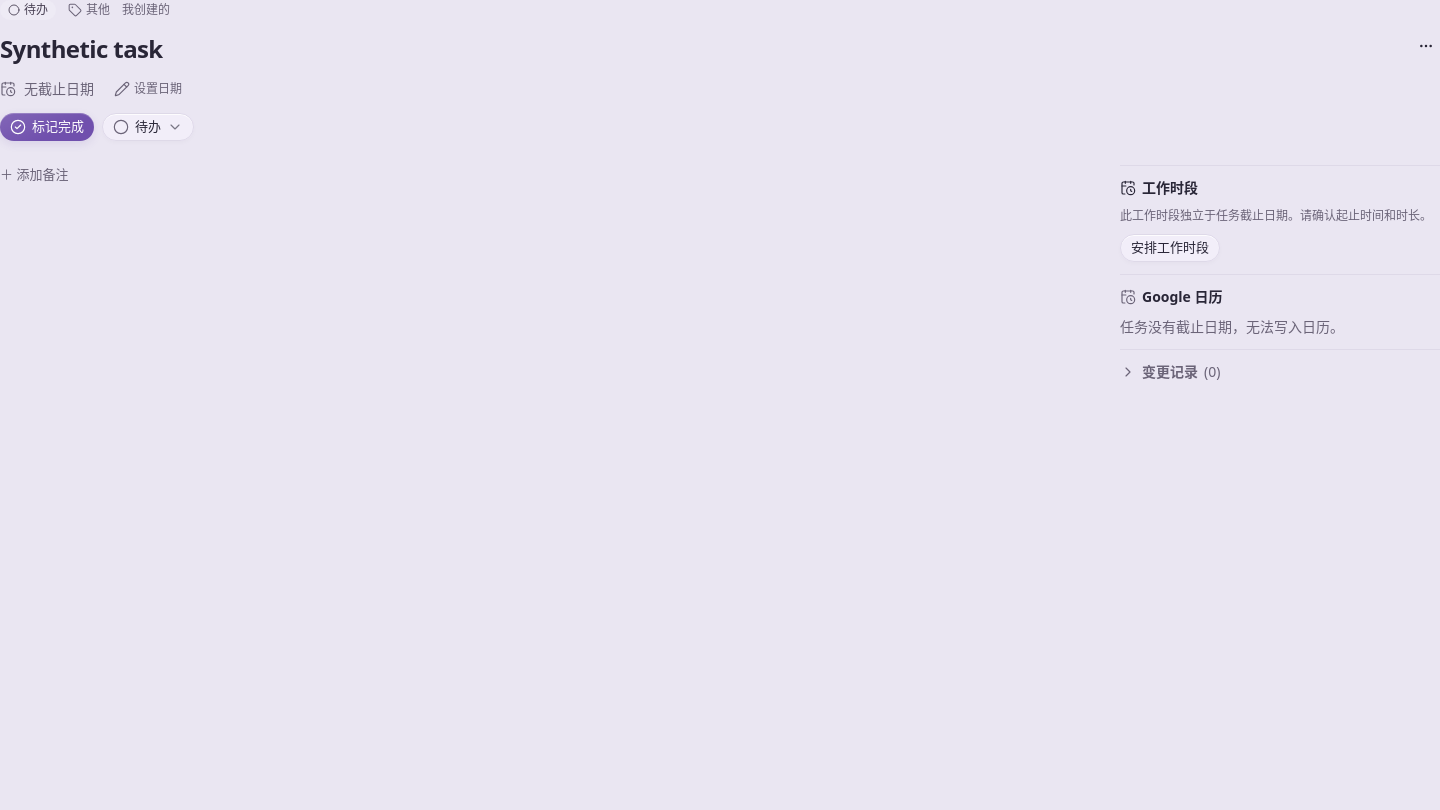
Test: TaskDetailView: adding notes › opens the notes ready to type and saves them with Ctrl+Enter
Click the button "＋ 添加备注".
click(34, 175)  # box [0, 165, 68, 184]
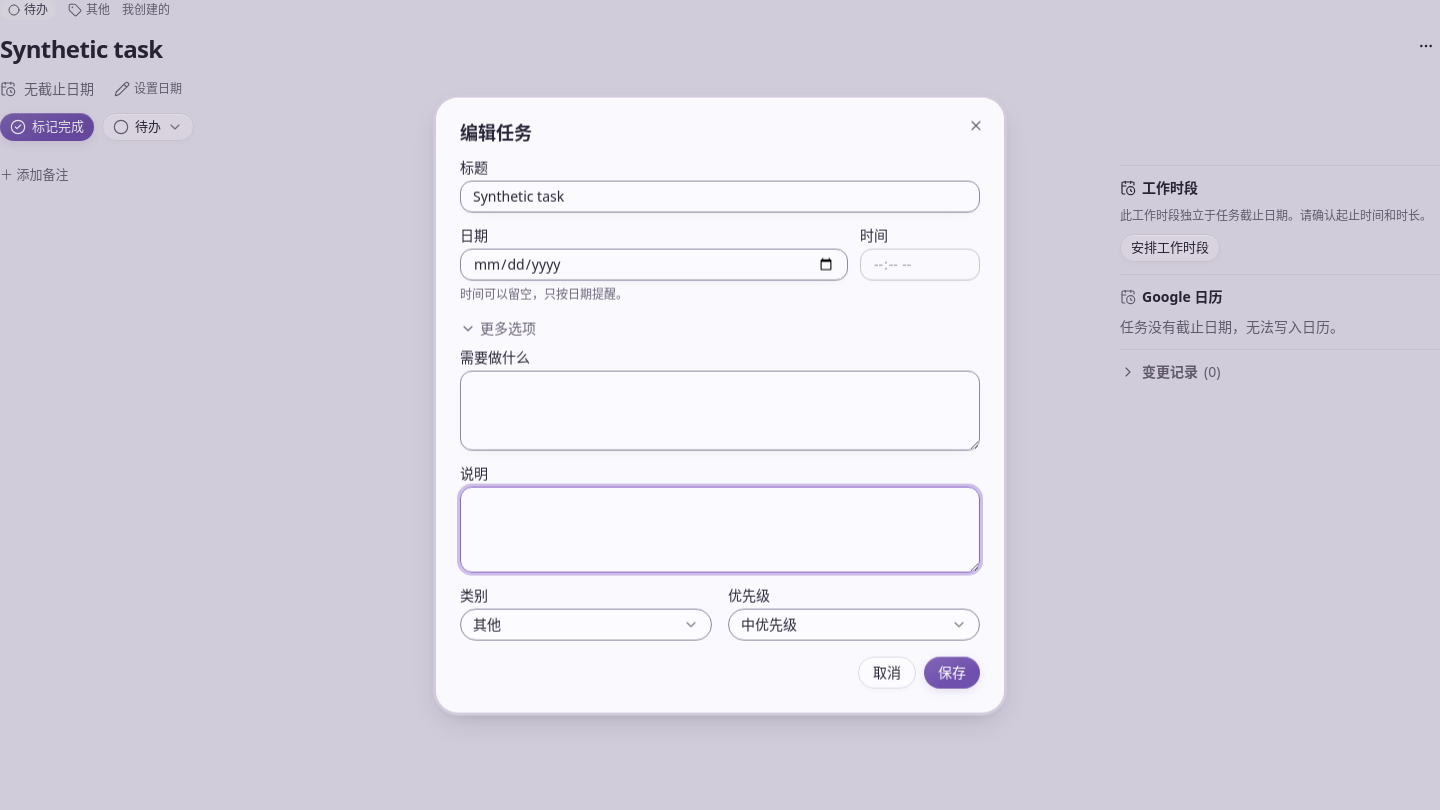
Now the text box labelled "说明" is shown, box [460, 486, 980, 572]
Type keys "第一行{Enter}第二行"
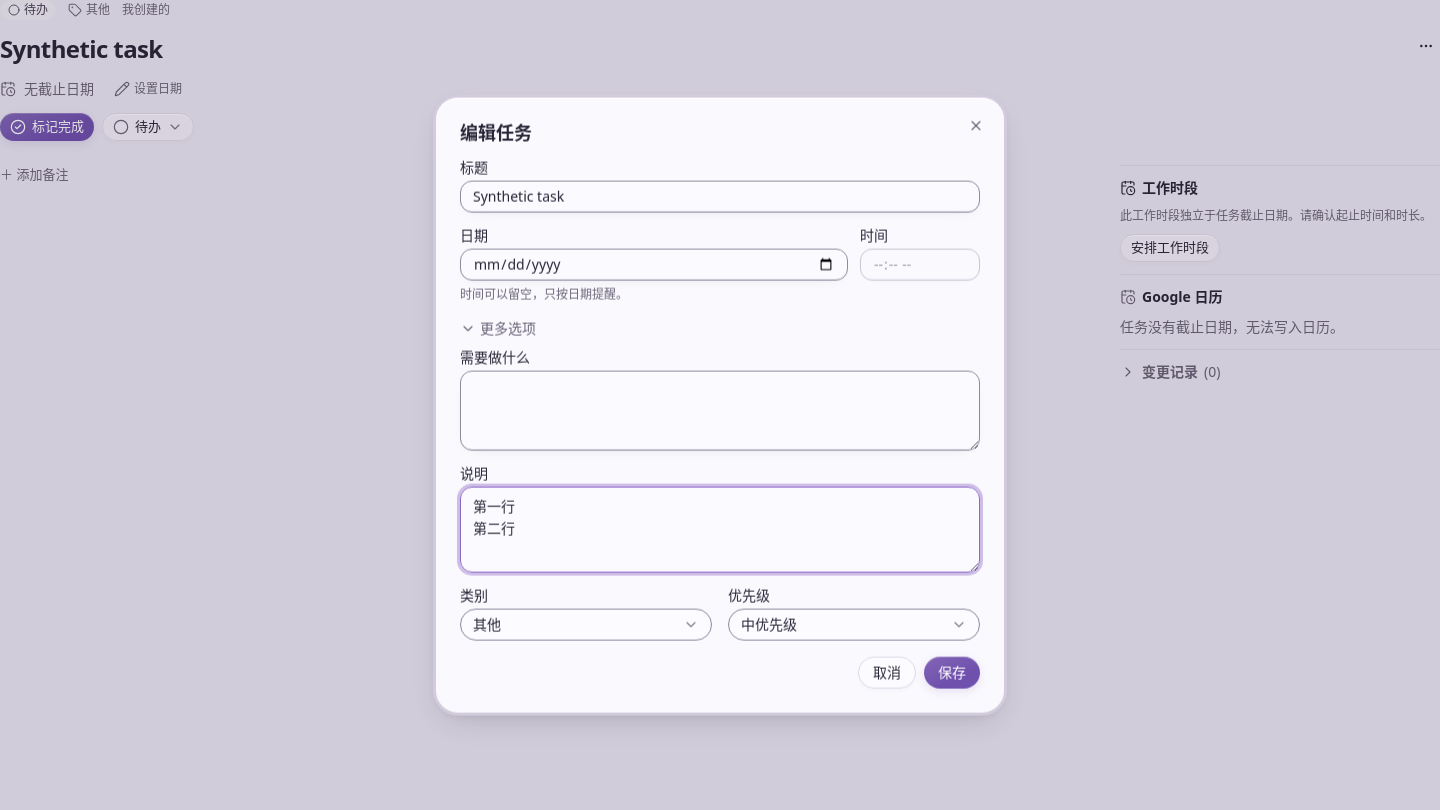
Type keys "{Control>}{Enter}{/Control}"
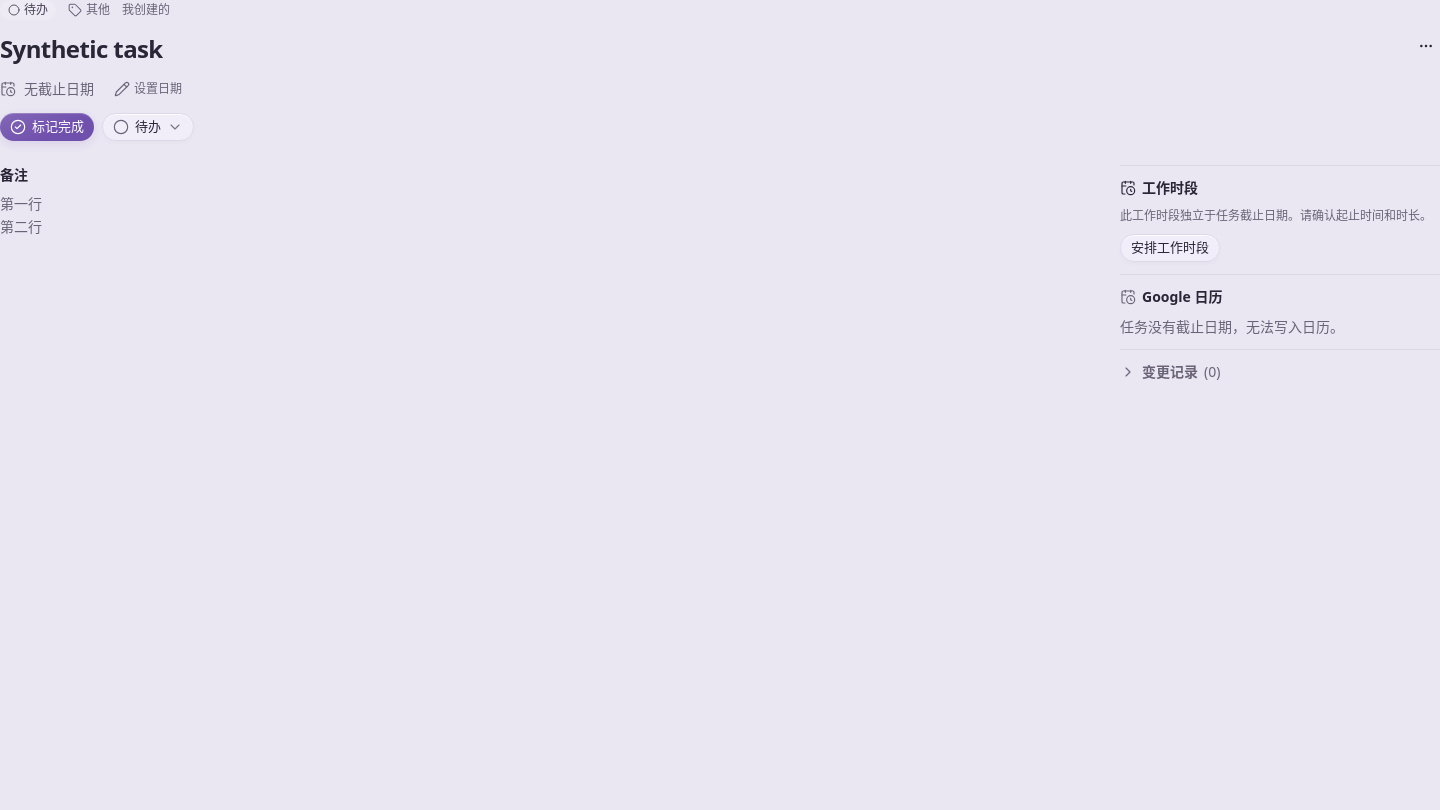
Now the dialog is gone
Now the text "第一行 第二行" is shown, box [0, 194, 42, 236]
